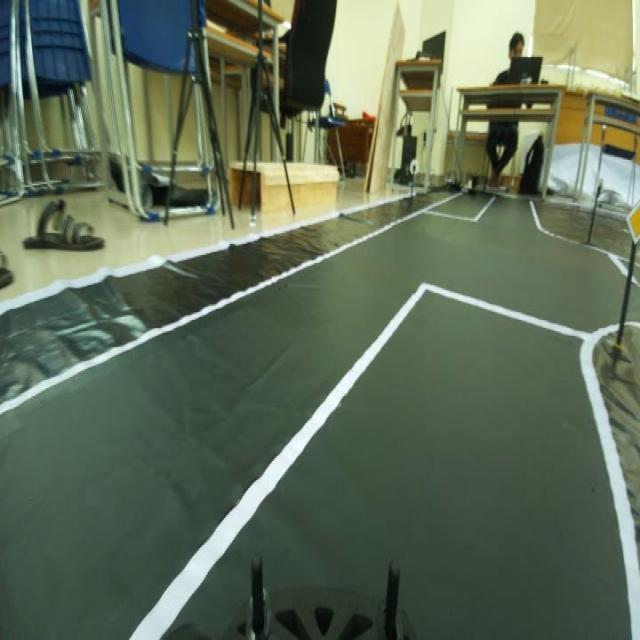priority: (621, 191, 640, 248)
